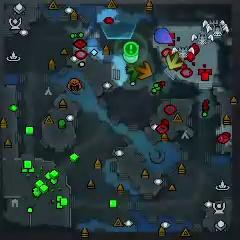Other: (124, 41, 139, 56)
p1: (155, 27, 173, 44)
p2: (122, 49, 139, 63)
x2: (165, 53, 183, 70)
x4: (125, 65, 140, 82)
x5: (136, 61, 153, 80)
